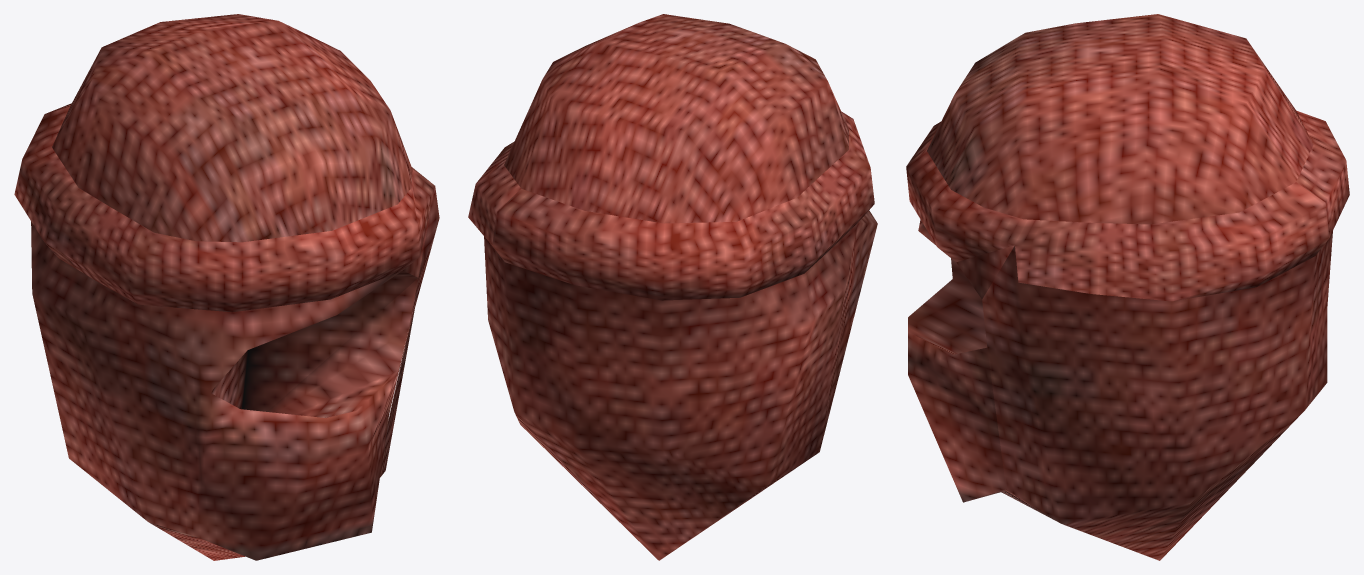
File: IR_Shemagh02_RedWhite.glb
The picture shows the model from 3 angles, left to right: view 1: azimuth 30°, elevation 25°; view 2: azimuth 150°, elevation 25°; view 3: azimuth 270°, elevation 25°; orthographic projection. The views are drawn at different scales.
Visible parts, largest first — view 1: IR_SHEMAGH02_REDWHITE; view 2: IR_SHEMAGH02_REDWHITE; view 3: IR_SHEMAGH02_REDWHITE.
Part boxes in pixels (x1=…): IR_SHEMAGH02_REDWHITE: x1=14, y1=14, x2=439, y2=560; IR_SHEMAGH02_REDWHITE: x1=468, y1=14, x2=877, y2=560; IR_SHEMAGH02_REDWHITE: x1=906, y1=14, x2=1349, y2=560.
Size of the model in its own units: 0.226 by 0.333 by 0.257.
Materials: 1 (1 with a texture image).
